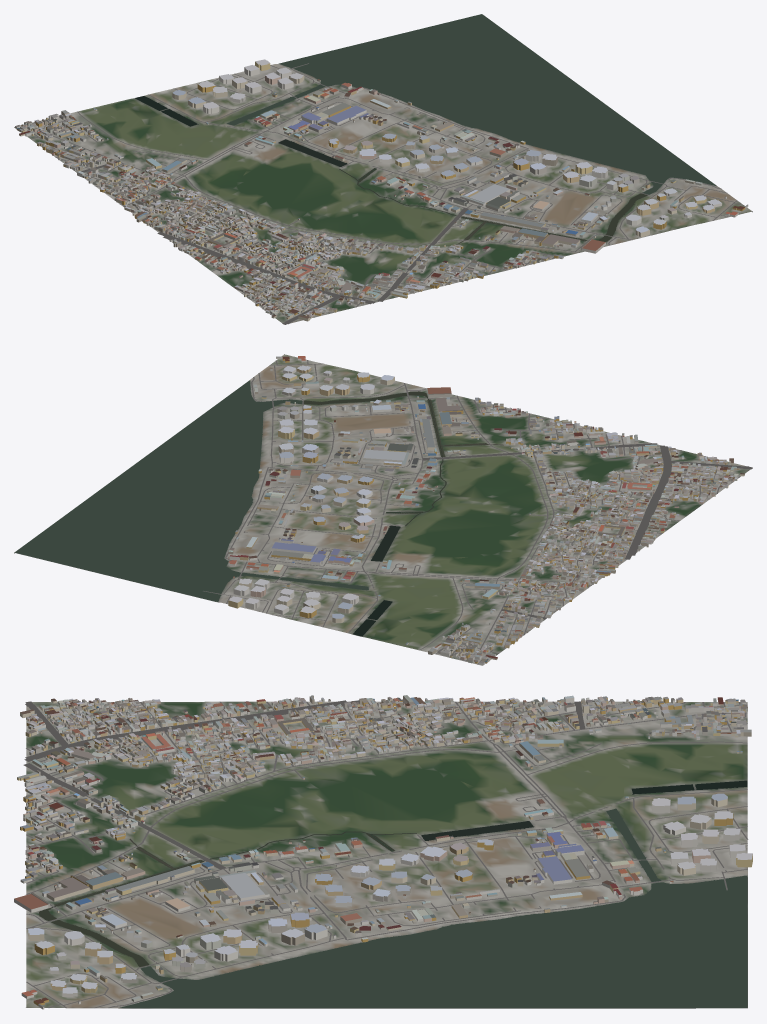
3 renders of one model, top to bottom at view 1: azimuth 30°, elevation 25°; view 2: azimuth 150°, elevation 25°; view 3: azimuth 270°, elevation 25°, orthographic. The views are drawn at different scales.
Visible parts, largest first — view 1: ground, buildings, water, roads; view 2: ground, buildings, water, roads; view 3: ground, buildings, water, roads.
Boxes of the visible parts, x1,y1,x2,y2 form: ground: [14, 15, 752, 323]; buildings: [15, 59, 748, 321]; water: [135, 14, 716, 244]; roads: [27, 63, 752, 324]; ground: [14, 354, 752, 665]; buildings: [228, 356, 744, 665]; water: [15, 380, 503, 636]; roads: [203, 354, 752, 664]; ground: [26, 701, 747, 1008]; buildings: [14, 695, 752, 1009]; water: [39, 780, 747, 1007]; roads: [23, 700, 748, 1008].
Size of the model in its own units: 1422 by 22.38 by 1434.
